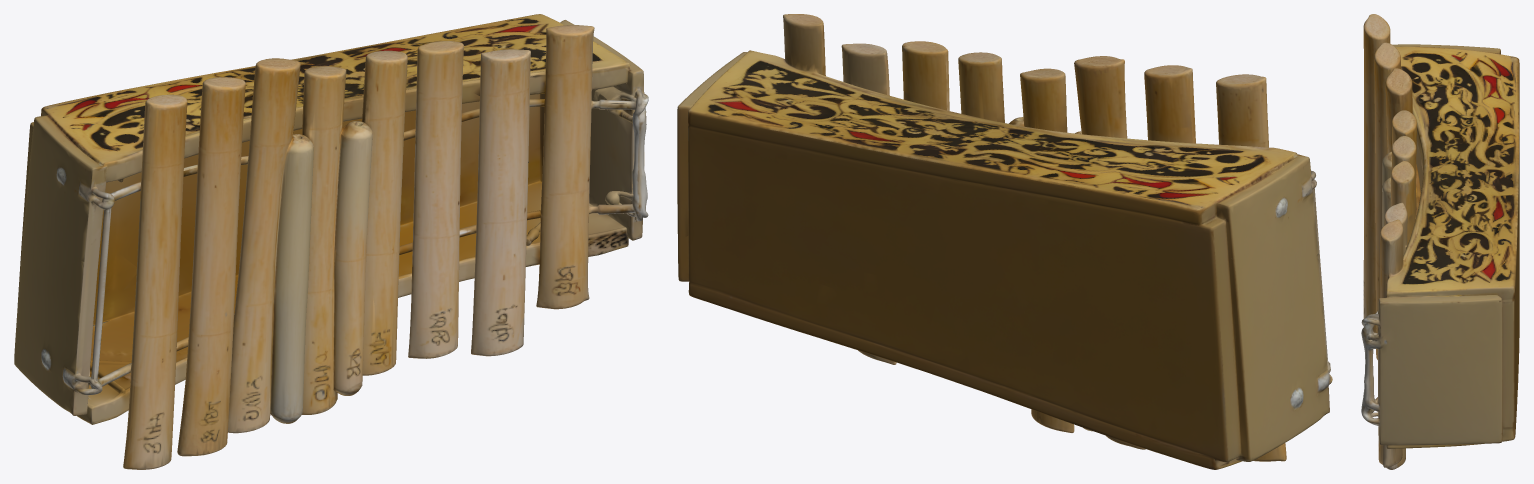
Rendered from kalimantan-utara.glb.
The picture shows the model from 3 angles, left to right: view 1: azimuth 30°, elevation 25°; view 2: azimuth 150°, elevation 25°; view 3: azimuth 270°, elevation 25°; orthographic projection. The views are drawn at different scales.
Parts seen in each view (by area): view 1: node_0; view 2: node_0; view 3: node_0.
Boxes of the visible parts, <box> form: node_0: <box>14,14,648,469</box>; node_0: <box>677,14,1332,469</box>; node_0: <box>1361,14,1519,469</box>.
Bounding box in the file's own units: 1.11 × 0.6848 × 0.3089.
1 material, 1 textured.
